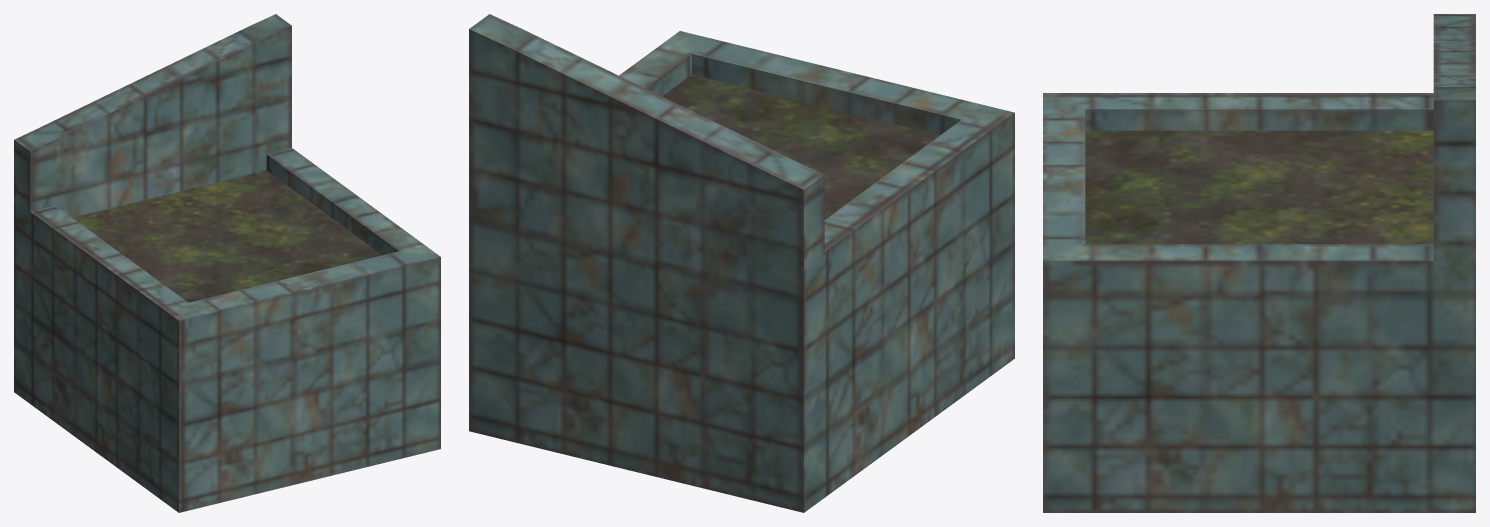
Rendered from Uneven Rectangular Headstone.fbx.
3 renders of one model, left to right at view 1: azimuth 30°, elevation 25°; view 2: azimuth 150°, elevation 25°; view 3: azimuth 270°, elevation 25°, orthographic. The views are drawn at different scales.
Visible parts, largest first — view 1: Cube.005; view 2: Cube.005; view 3: Cube.005.
Boxes of the visible parts, x1,y1,x2,y2 form: Cube.005: (14, 14, 440, 512); Cube.005: (469, 14, 1014, 512); Cube.005: (1043, 14, 1475, 512).
Bounding box in the file's own units: 200 × 229 × 218.
